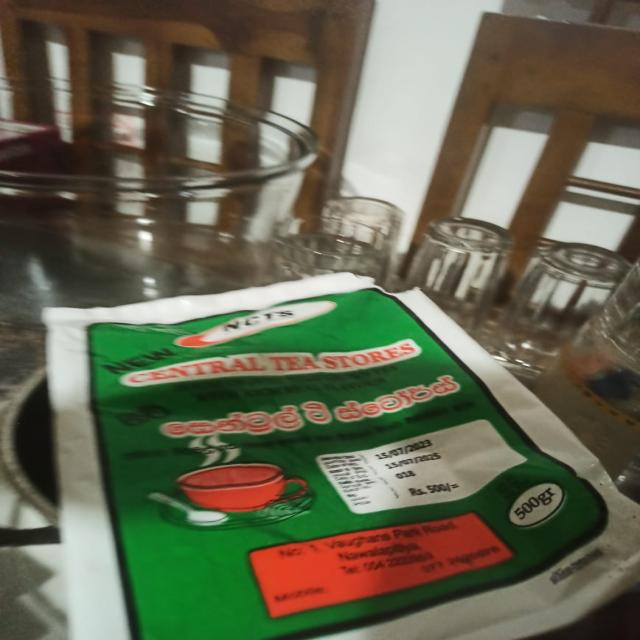Central Tea: (31, 280, 640, 639)
